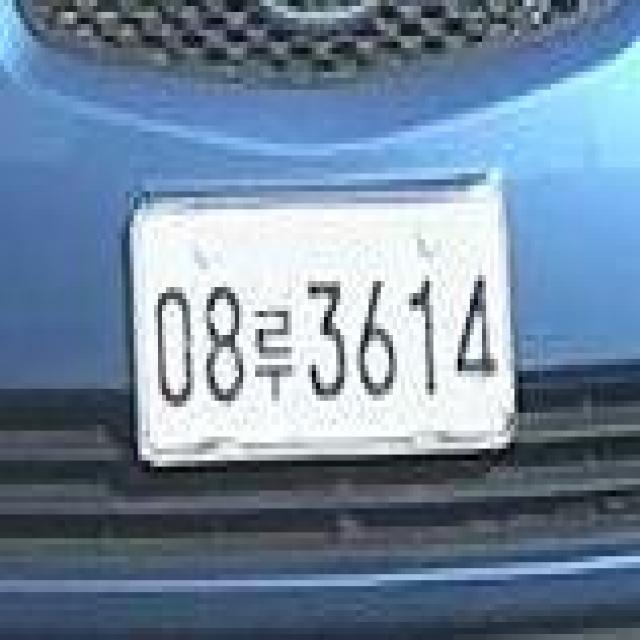illegal_plate: (125, 178, 521, 473)
